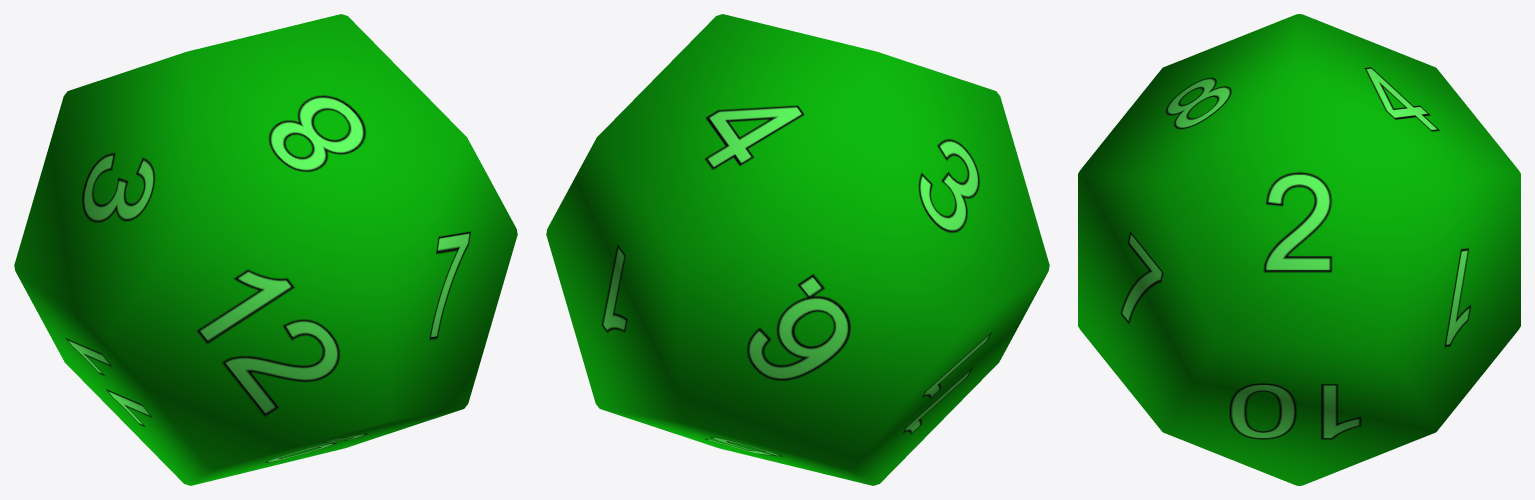
3 views of the same model, side by side, from view 1: azimuth 30°, elevation 25°; view 2: azimuth 150°, elevation 25°; view 3: azimuth 270°, elevation 25° (orthographic). The views are drawn at different scales.
Parts seen in each view (by area): view 1: Mesh_0.006; view 2: Mesh_0.006; view 3: Mesh_0.006.
Part boxes in pixels (<box>): Mesh_0.006: <box>14,14,517,485</box>; Mesh_0.006: <box>546,14,1049,485</box>; Mesh_0.006: <box>1078,14,1520,485</box>.
Size of the model in its own units: 167 by 167 by 167.
Materials: 1 (1 with a texture image).
